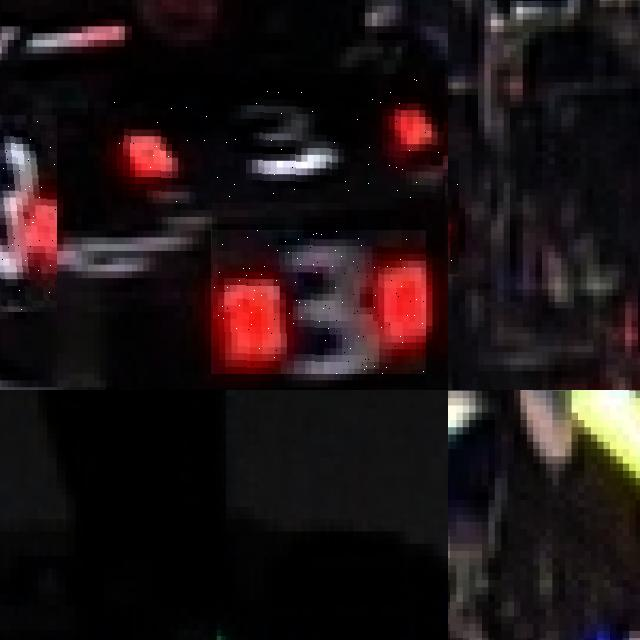R3: (112, 74, 445, 203), (211, 230, 426, 374), (0, 114, 57, 312)
